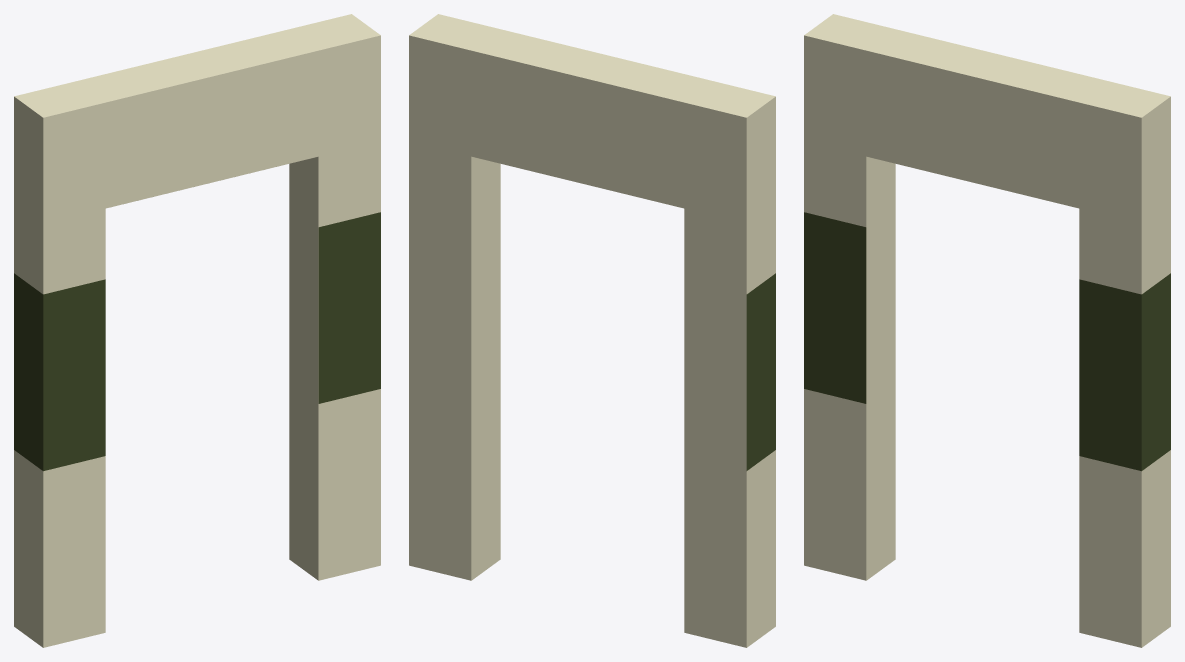
The model's file is wall_doorway_exportprep.gltf.
The picture shows the model from 3 angles, left to right: view 1: azimuth 30°, elevation 25°; view 2: azimuth 150°, elevation 25°; view 3: azimuth 330°, elevation 25°; orthographic projection.
Visible parts, largest first — view 1: wall_door.001; view 2: wall_door.001; view 3: wall_door.001.
Part boxes in pixels (box(x1,y1,x2,y2)): wall_door.001: box(14, 14, 380, 647); wall_door.001: box(409, 14, 775, 647); wall_door.001: box(804, 14, 1170, 647).
Bounding box in the file's own units: 2 × 3 × 0.3.
